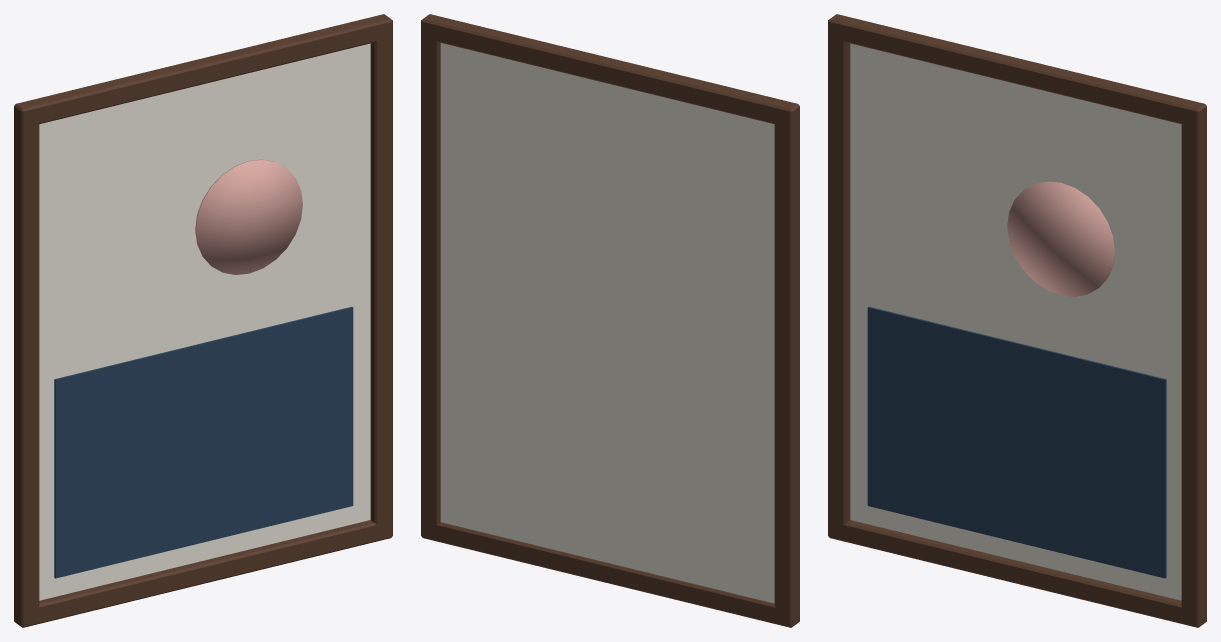
File: i_pic_10.glb
3 views of the same model, side by side, from view 1: azimuth 30°, elevation 25°; view 2: azimuth 150°, elevation 25°; view 3: azimuth 330°, elevation 25° (orthographic).
Parts seen in each view (by area): view 1: o.004, o.005, o.002, o.003, o.001, o.006, o; view 2: o.004, o.002, o.001, o.003, o; view 3: o.004, o.005, o.003, o.002, o.001, o.006, o.
Part boxes in pixels (left/top/right/bottom): o.004: left=39, top=43, right=370, bottom=600; o.005: left=54, top=306, right=353, bottom=578; o.002: left=14, top=106, right=39, bottom=627; o.003: left=370, top=20, right=392, bottom=541; o.001: left=14, top=14, right=392, bottom=126; o.006: left=195, top=159, right=302, bottom=274; o: left=14, top=520, right=392, bottom=627; o.004: left=440, top=43, right=774, bottom=603; o.002: left=774, top=104, right=799, bottom=626; o.001: left=421, top=14, right=799, bottom=126; o.003: left=421, top=22, right=440, bottom=541; o: left=421, top=520, right=799, bottom=627; o.004: left=850, top=43, right=1181, bottom=600; o.005: left=867, top=306, right=1166, bottom=578; o.003: left=1181, top=106, right=1206, bottom=626; o.002: left=828, top=22, right=850, bottom=541; o.001: left=828, top=14, right=1206, bottom=126; o.006: left=1007, top=181, right=1114, bottom=296; o: left=828, top=520, right=1206, bottom=627.
Bounding box in the file's own units: 0.6 × 0.8 × 0.025.
